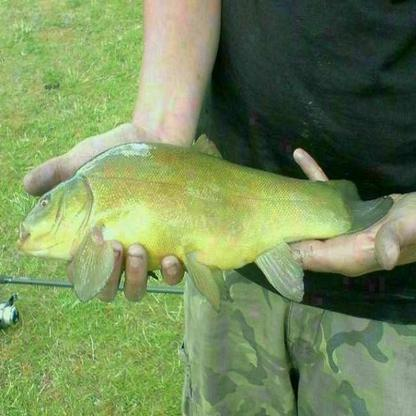fish: (13, 134, 396, 311)
